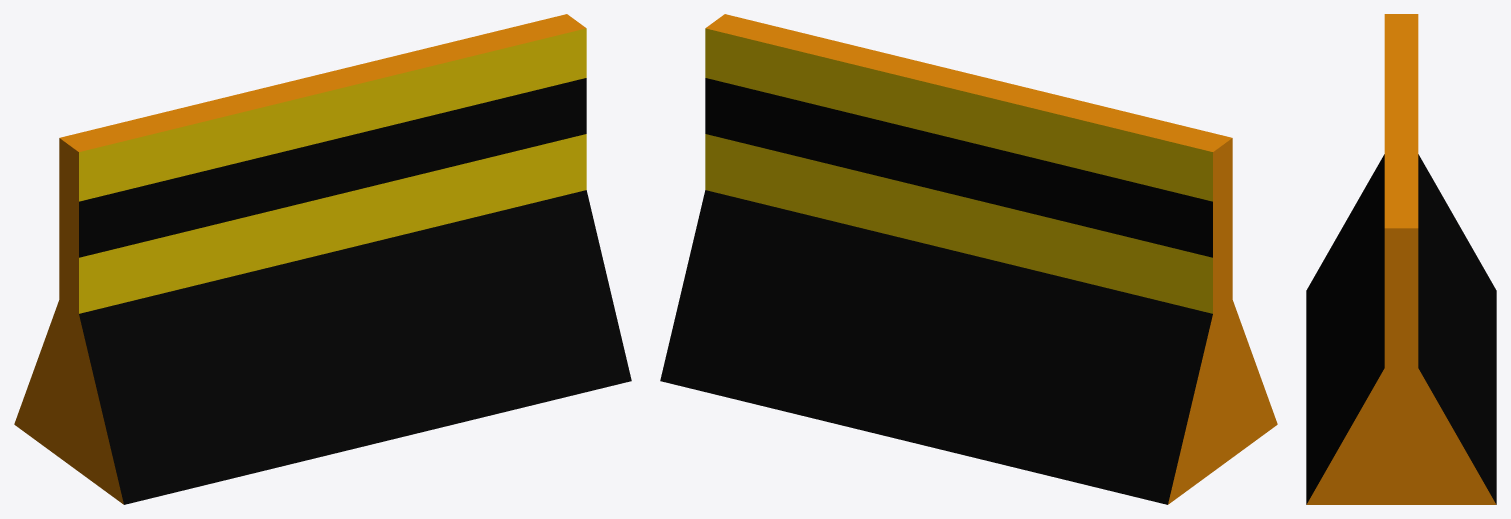
Rendered from barriers.fbx.
3 views of the same model, side by side, from view 1: azimuth 30°, elevation 25°; view 2: azimuth 150°, elevation 25°; view 3: azimuth 270°, elevation 25° (orthographic). The views are drawn at different scales.
Visible parts, largest first — view 1: Cube; view 2: Cube; view 3: Cube.
Boxes of the visible parts, left/top/right/bottom form: Cube: left=14, top=14, right=631, bottom=504; Cube: left=660, top=14, right=1277, bottom=504; Cube: left=1306, top=14, right=1496, bottom=504.
Size of the model in its own units: 918 by 552 by 344.
